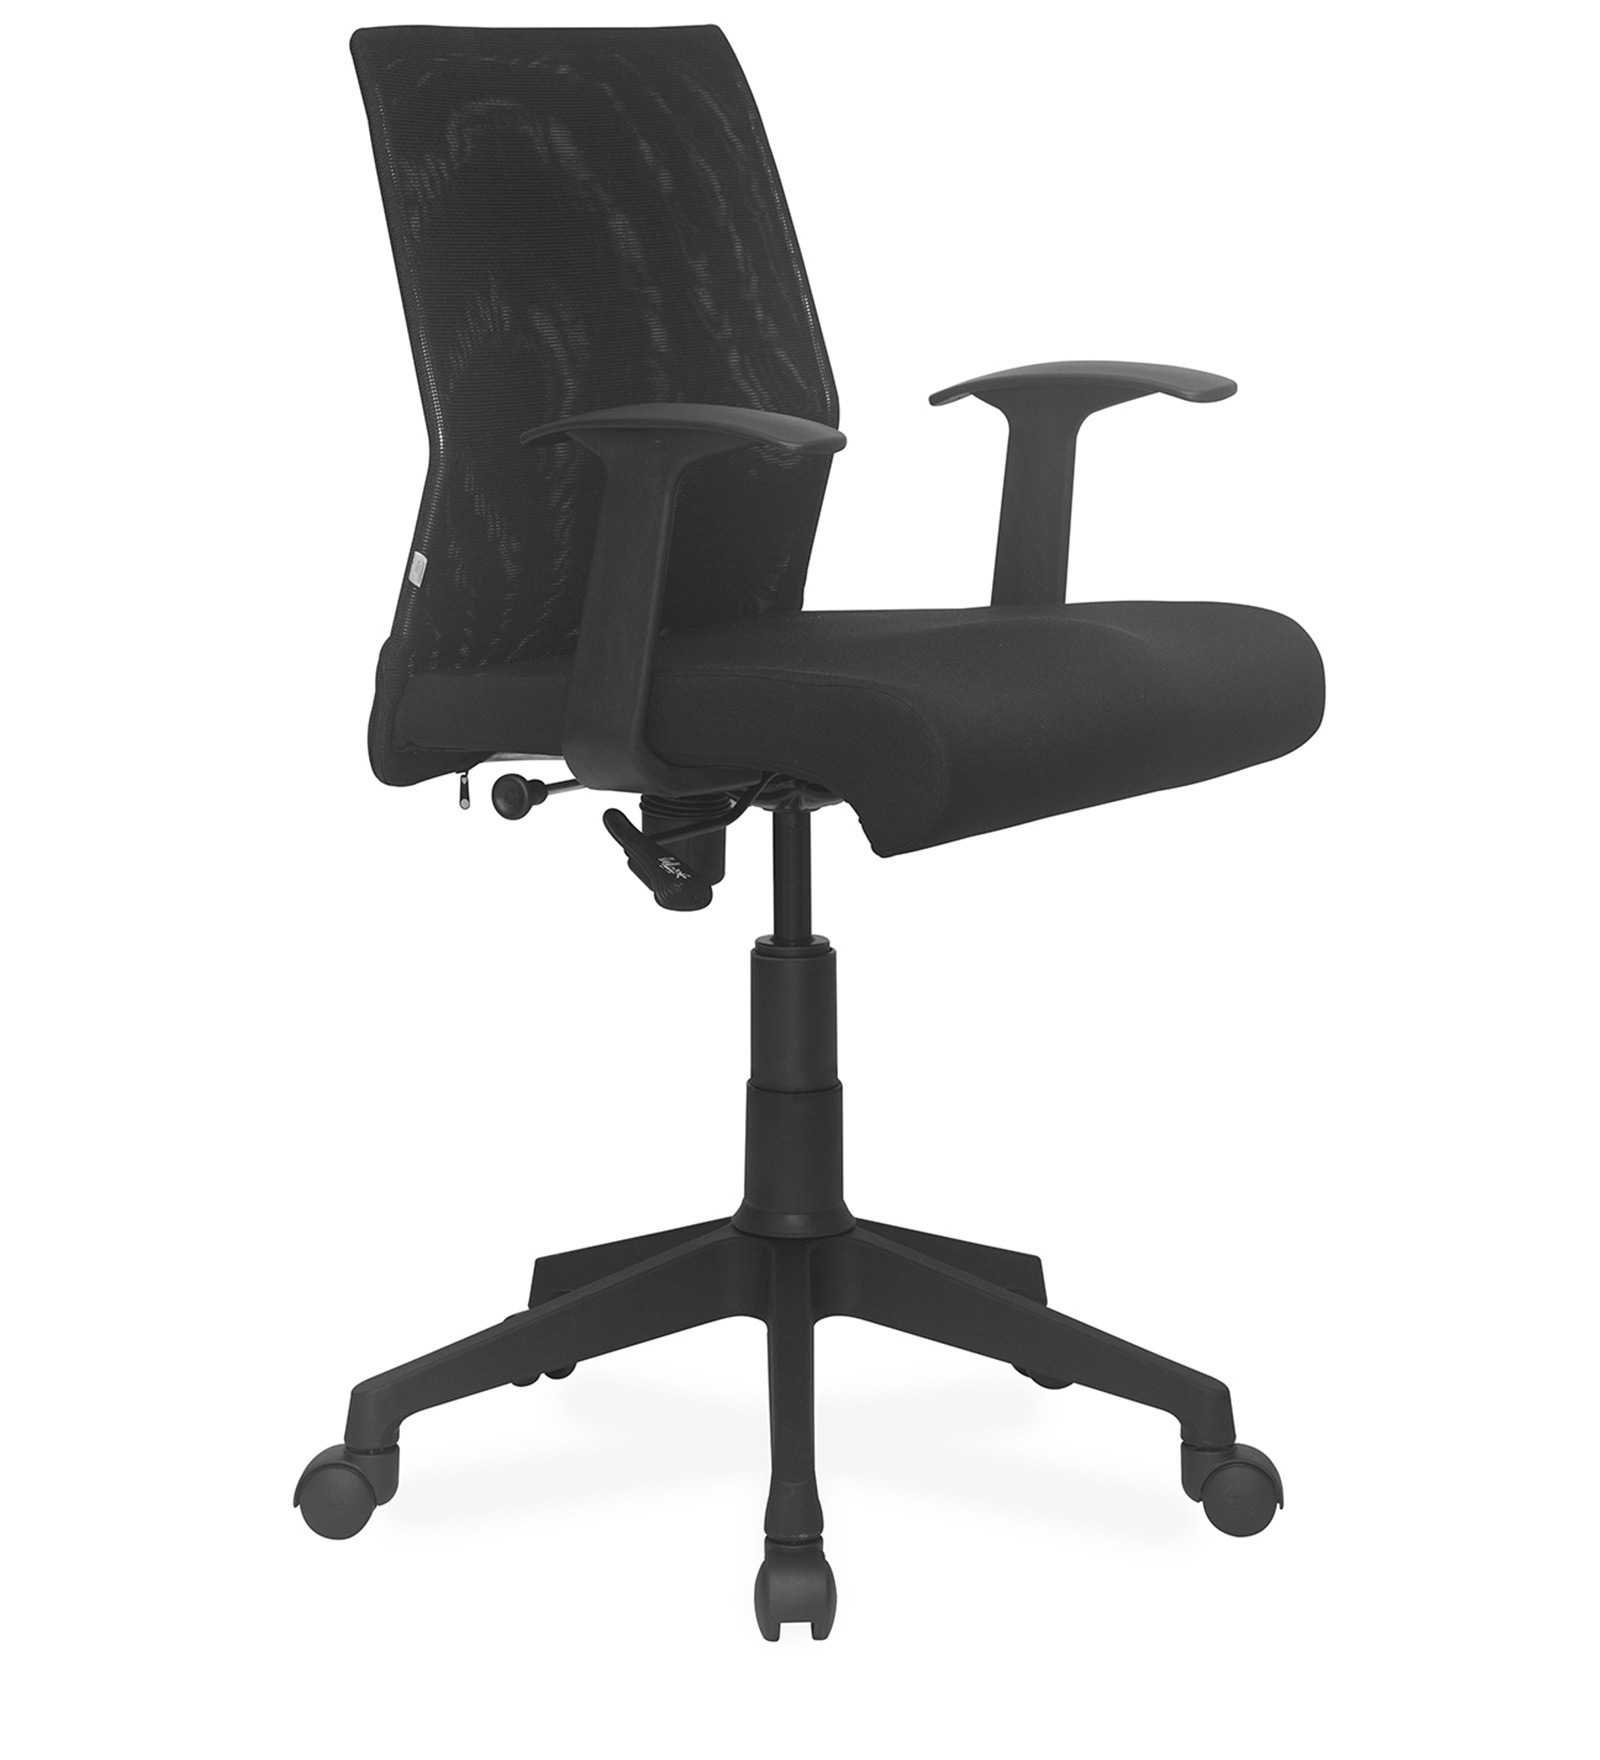Thames Low Back Mesh Office Chair in Black Colour by Nilkamal: (279, 9, 1318, 1697)
